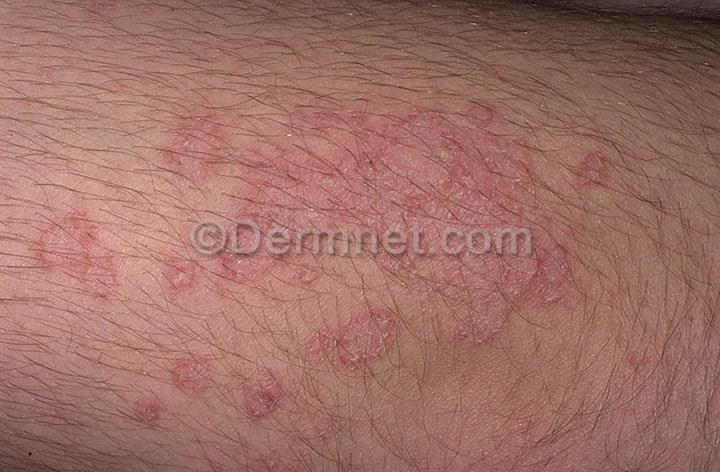Eczema: (154, 350, 278, 447), (290, 322, 423, 411), (322, 116, 427, 225), (135, 117, 265, 188), (33, 227, 125, 311), (569, 136, 640, 202)
